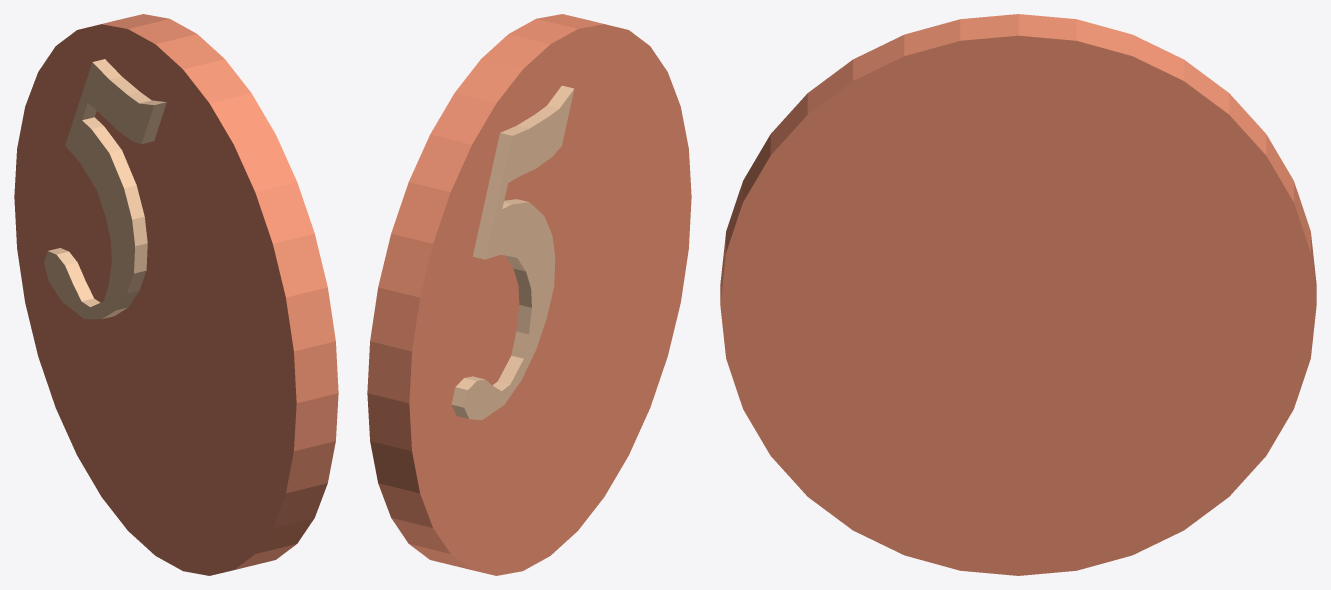
File: coin-005.glb
3 views of the same model, side by side, from view 1: azimuth 30°, elevation 25°; view 2: azimuth 150°, elevation 25°; view 3: azimuth 270°, elevation 25° (orthographic). The views are drawn at different scales.
Visible parts, largest first — view 1: Circle; view 2: Circle; view 3: Circle.
Boxes of the visible parts, x1,y1,x2,y2 form: Circle: (14,14,338,575); Circle: (367,14,691,575); Circle: (720,14,1316,575).
Bounding box in the file's own units: 0.2234 × 2 × 2.
